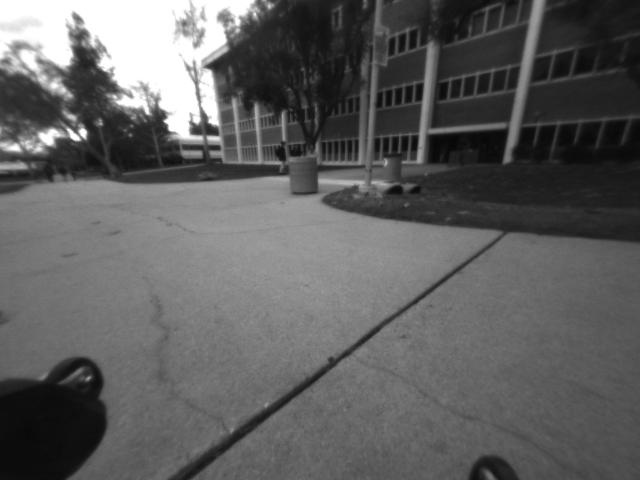trashcan: (291, 154, 320, 193), (380, 150, 405, 181)
